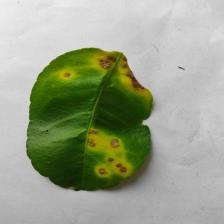canker: (51, 54, 148, 184)
